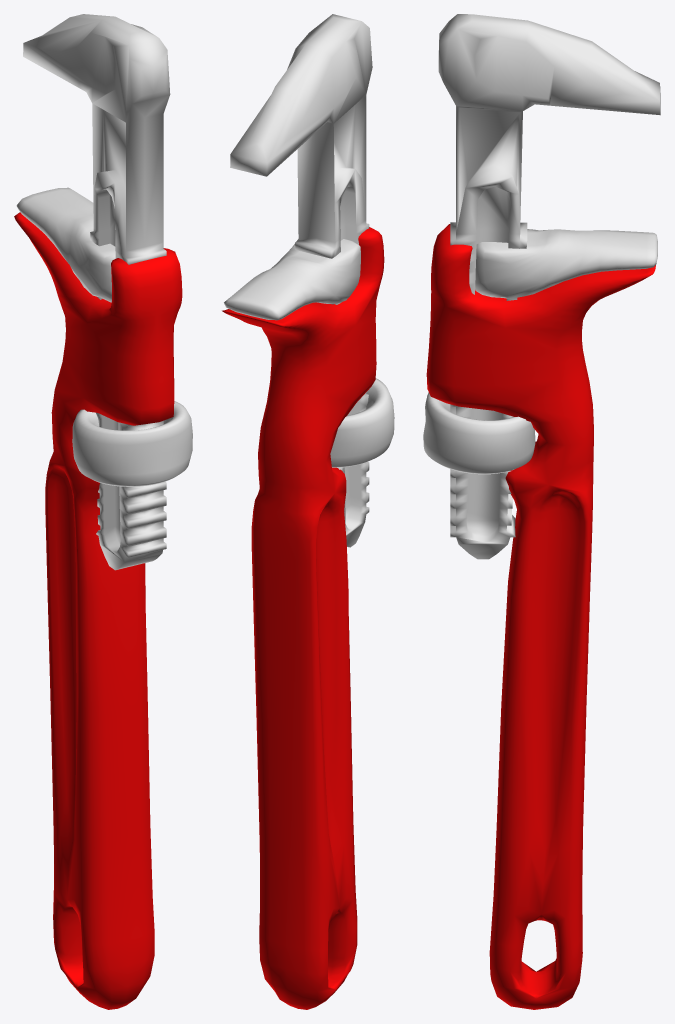
File: wrench.fbx
3 views of the same model, side by side, from view 1: azimuth 30°, elevation 25°; view 2: azimuth 150°, elevation 25°; view 3: azimuth 270°, elevation 25° (orthographic). The views are drawn at different scales.
Parts seen in each view (by area): view 1: Cube, Cube.002, Torus, Cube.001; view 2: Cube, Cube.002, Cube.001, Torus; view 3: Cube, Cube.002, Cube.001, Torus.
Boxes of the visible parts, x1=… form: Cube: x1=14, y1=212, x2=182, y2=1009; Cube.002: x1=23, y1=14, x2=170, y2=570; Torus: x1=72, y1=401, x2=192, y2=486; Cube.001: x1=16, y1=187, x2=115, y2=302; Cube: x1=222, y1=227, x2=384, y2=1009; Cube.002: x1=230, y1=14, x2=372, y2=547; Cube.001: x1=224, y1=239, x2=360, y2=320; Torus: x1=330, y1=378, x2=394, y2=467; Cube: x1=426, y1=224, x2=655, y2=1009; Cube.002: x1=438, y1=14, x2=660, y2=559; Cube.001: x1=475, y1=229, x2=657, y2=298; Torus: x1=423, y1=392, x2=535, y2=474.
Size of the model in its own units: 52.9 by 468 by 102.
